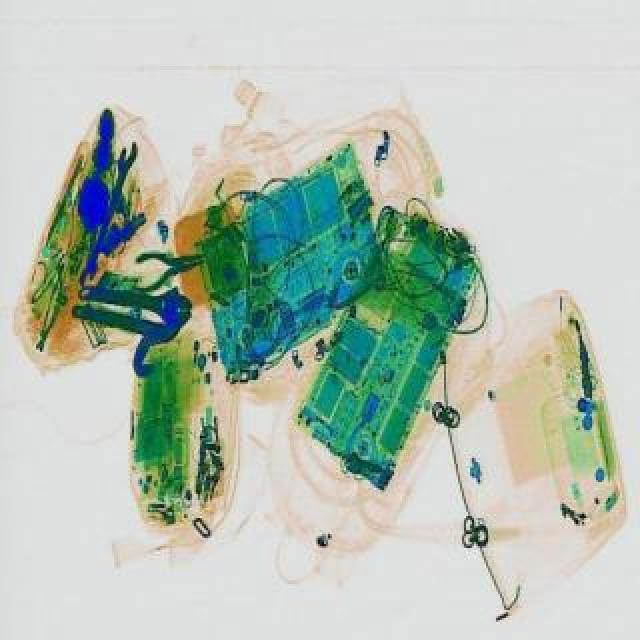scissors: (74, 134, 142, 286), (74, 270, 198, 332)
wrench: (124, 240, 212, 292)
